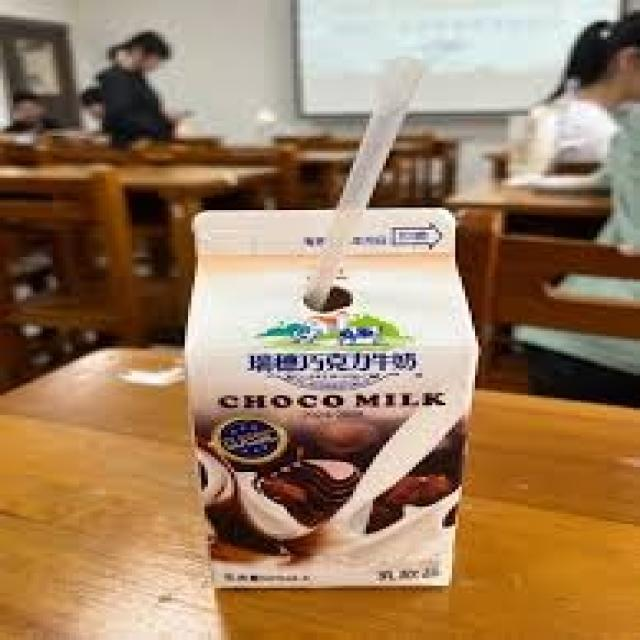RuiSui_ChocoMilk: (193, 209, 467, 590)
